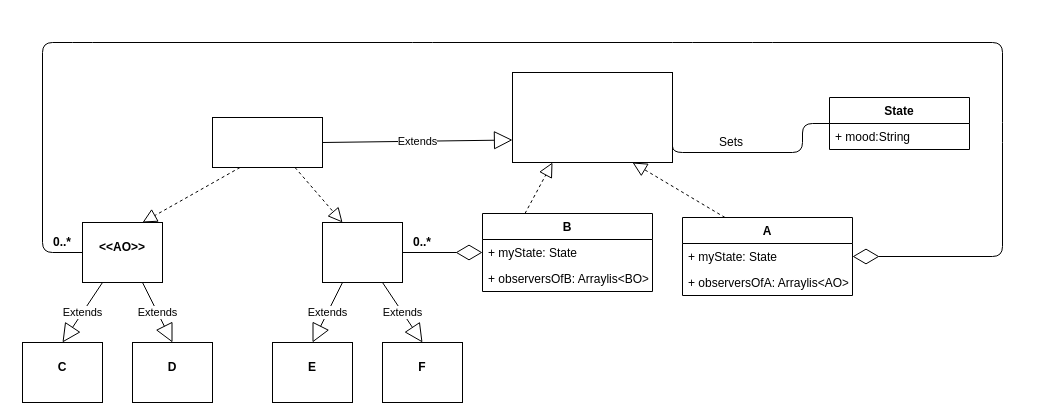
The diagram is 1046 pixels wide and 420 high, and some of its shapes have lost their labels. Each missing label, with the centre of its shape:
"<<BO>>" goes at (x=362, y=252).
"<<Interface>> Watched + setState(State state): void" goes at (x=592, y=117).
"«interface» Watcher" goes at (x=267, y=142).
